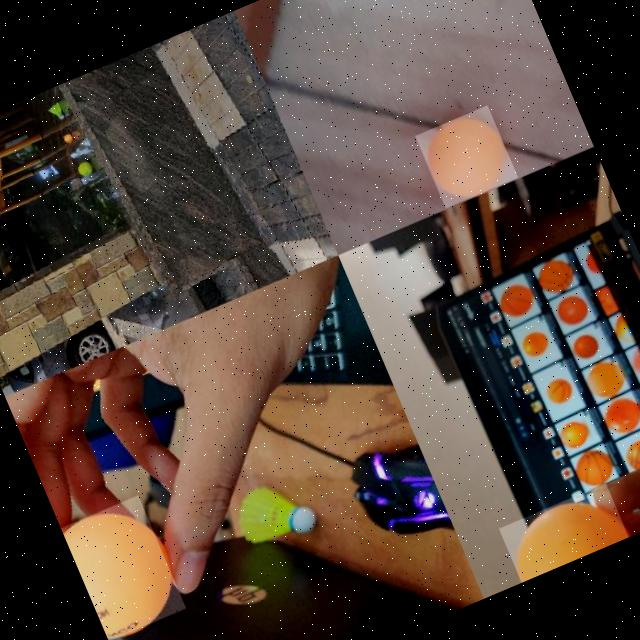ping-pong-ball: (60, 493, 186, 640), (498, 481, 630, 582), (414, 102, 520, 207), (62, 130, 73, 142)
